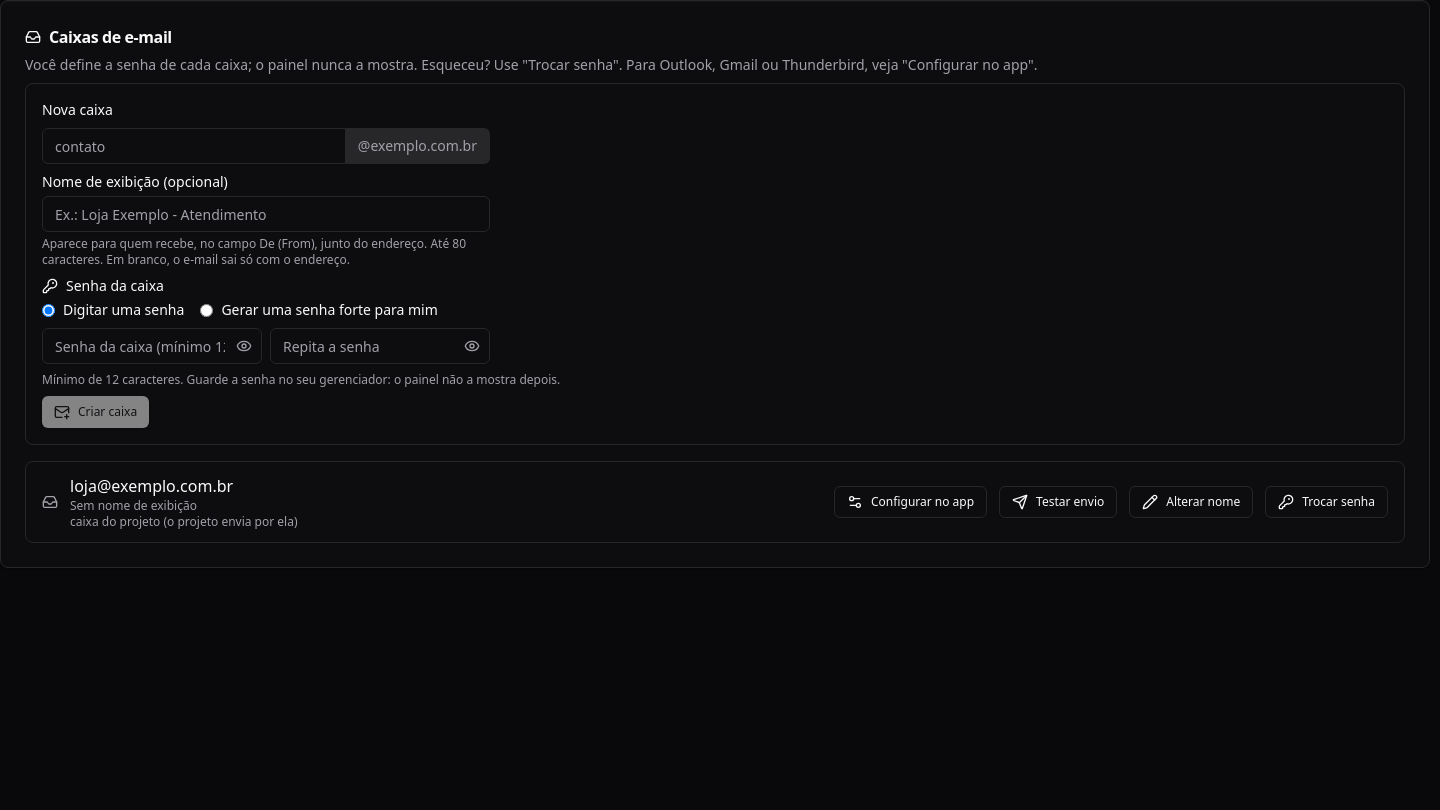
Scenario: MailboxesPanel › cria uma caixa nova no mesmo domínio (ex.: suporte@) e atualiza a lista
The image size is (1440, 810).
Type "suporte" into the field with placeholder "contato". click: (194, 146)
box: [42,128,346,164]
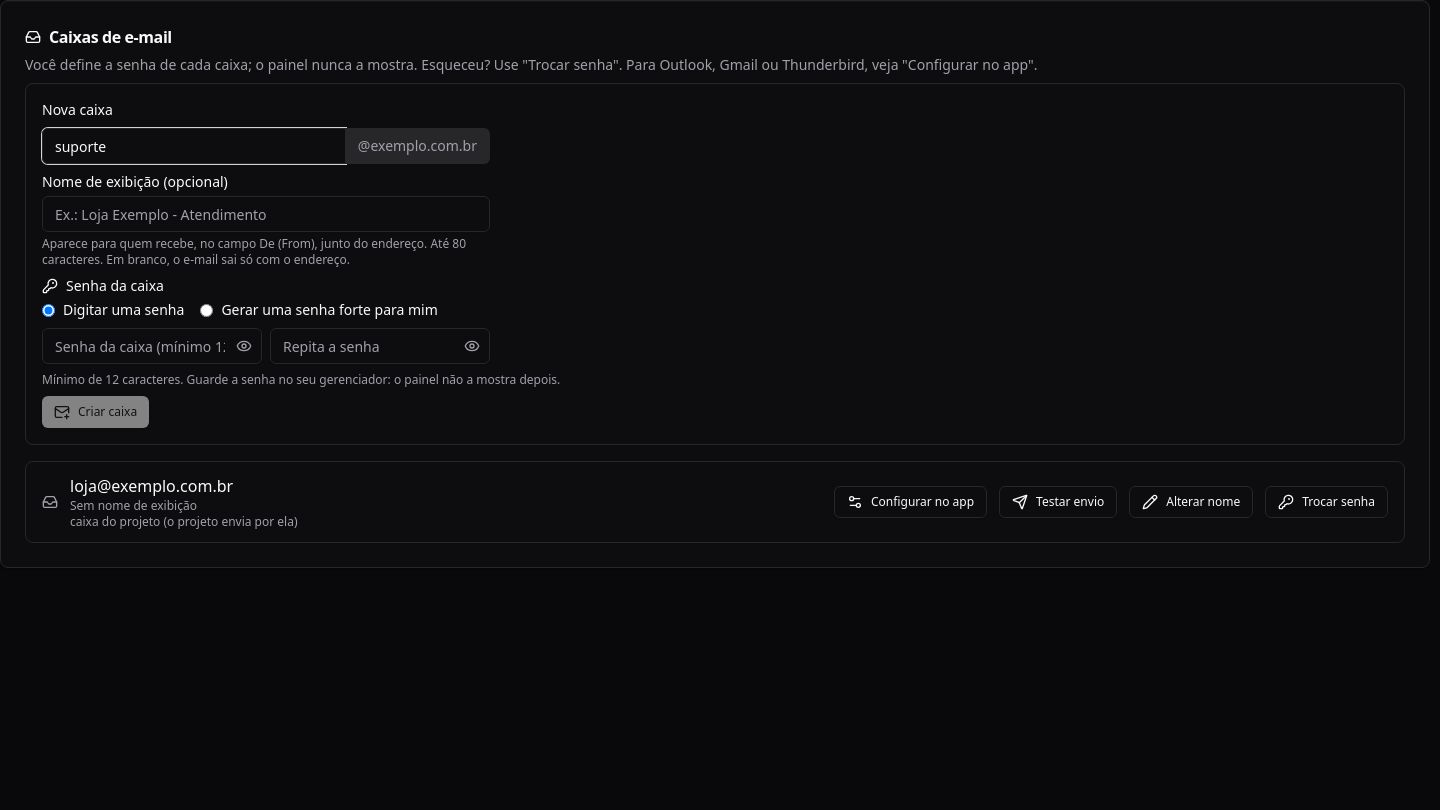
Expected: the text "@exemplo.com.br" is shown, [346,128,490,164]
Type "senha-forte-da-pessoa" into the password field labelled "Senha da caixa". click: (152, 346)
box: [42,328,262,364]
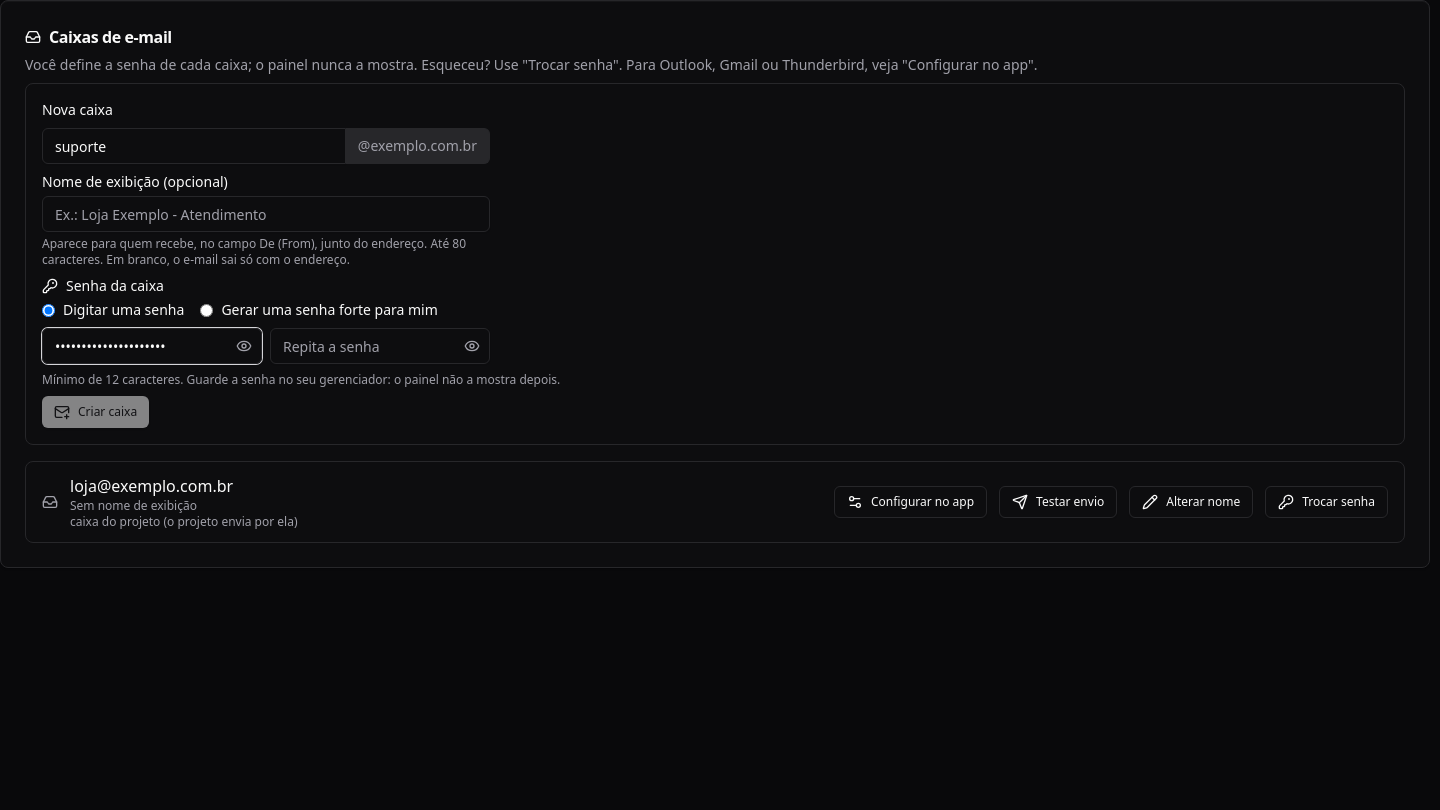
Type "senha-forte-da-pessoa" into the password field labelled "Repita a senha". click: (380, 346)
box: [270,328,490,364]
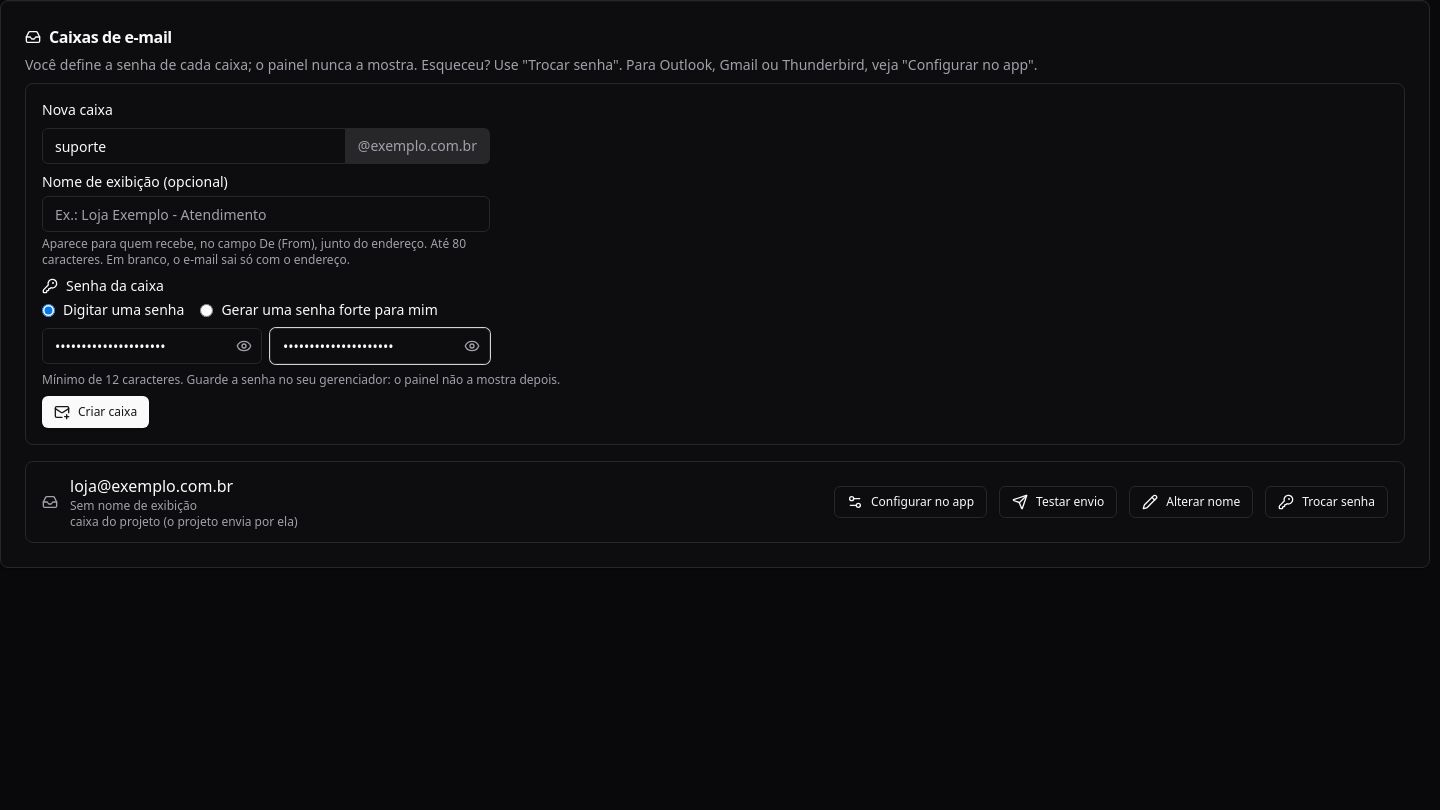
Click the button "Criar caixa". click: (96, 412)
box: [42,396,149,428]
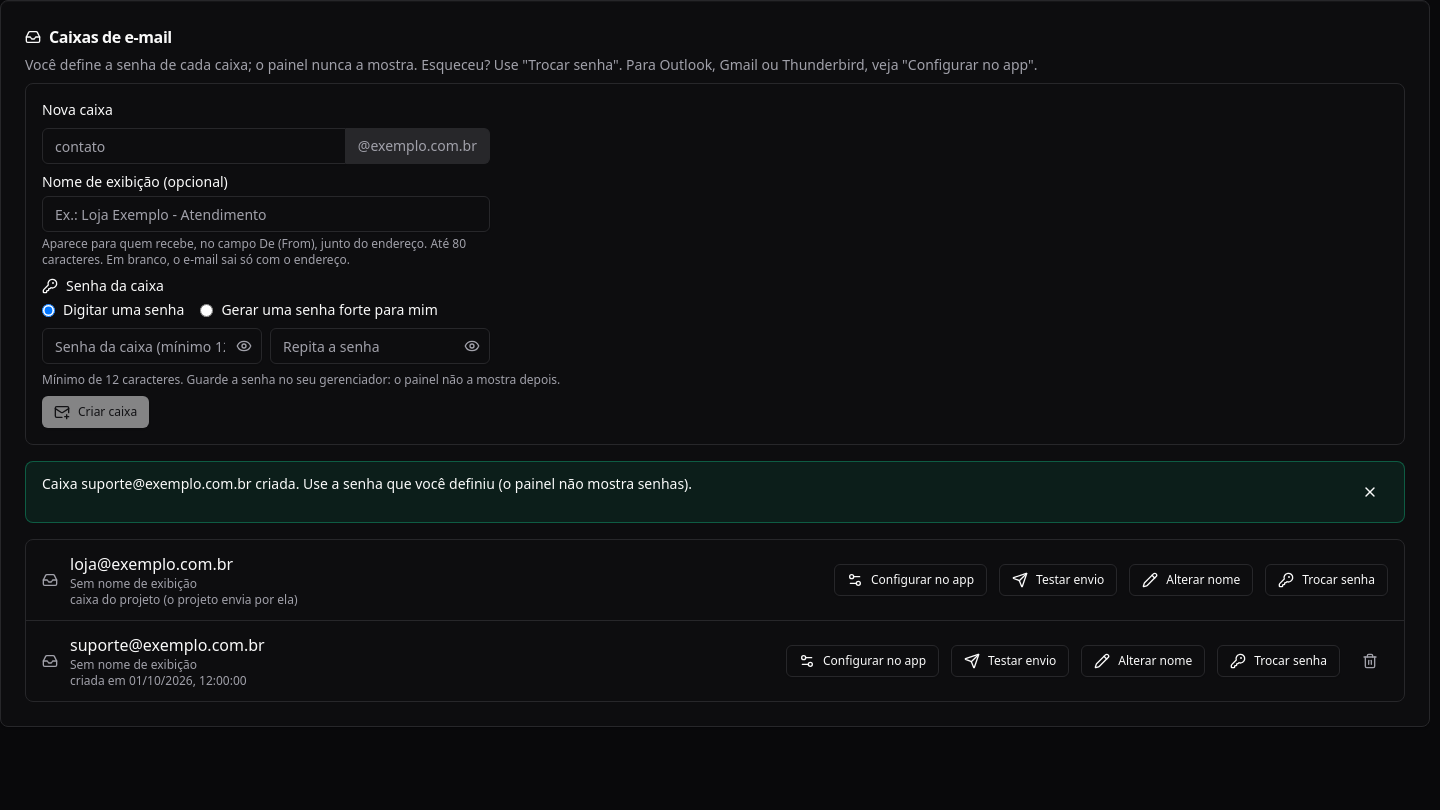
Now the text "suporte@exemplo.com.br" is shown, box [70,634,265,656]
